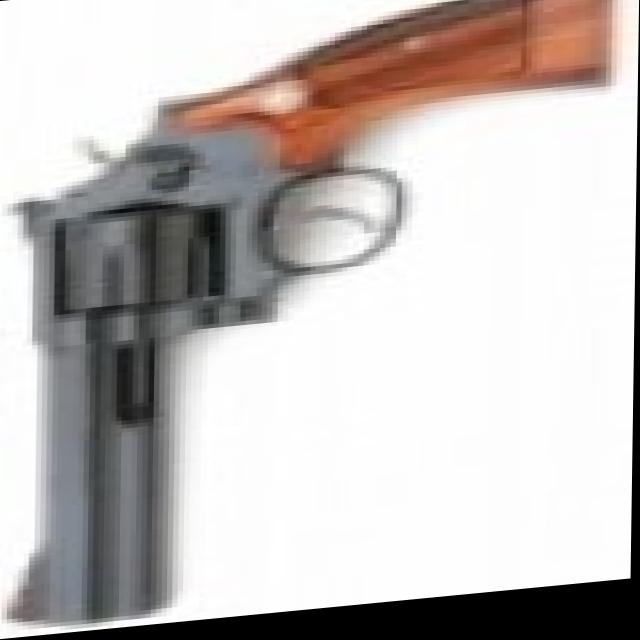handgun: (0, 0, 619, 636)
